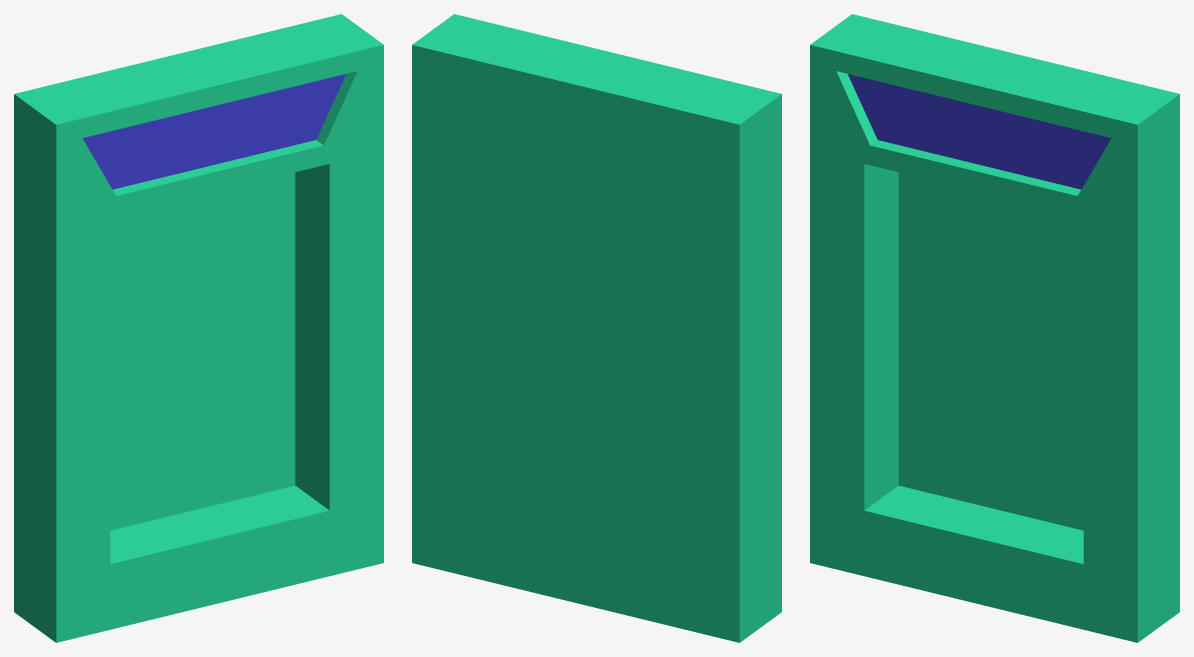
Rendered from F_panel.fbx.
3 views of the same model, side by side, from view 1: azimuth 30°, elevation 25°; view 2: azimuth 150°, elevation 25°; view 3: azimuth 330°, elevation 25° (orthographic).
Visible parts, largest first — view 1: Cube.001; view 2: Cube.001; view 3: Cube.001.
Boxes of the visible parts, x1=… form: Cube.001: x1=14, y1=14, x2=383, y2=642; Cube.001: x1=412, y1=14, x2=781, y2=642; Cube.001: x1=810, y1=14, x2=1179, y2=642.
Size of the model in its own units: 29.16 by 44.05 by 6.5.
